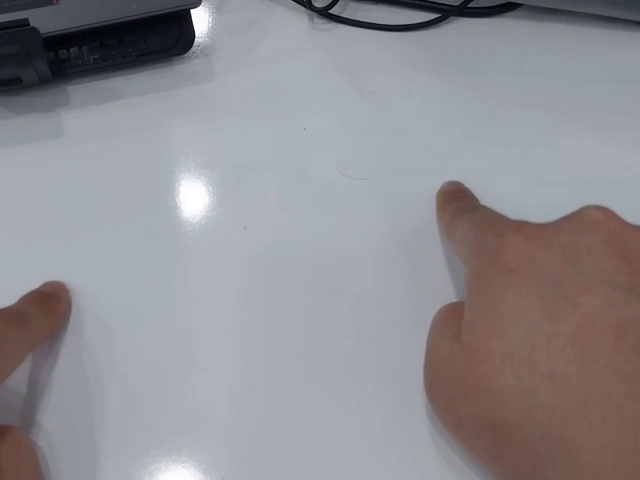fingers: (17, 278, 71, 343), (435, 179, 480, 224)
